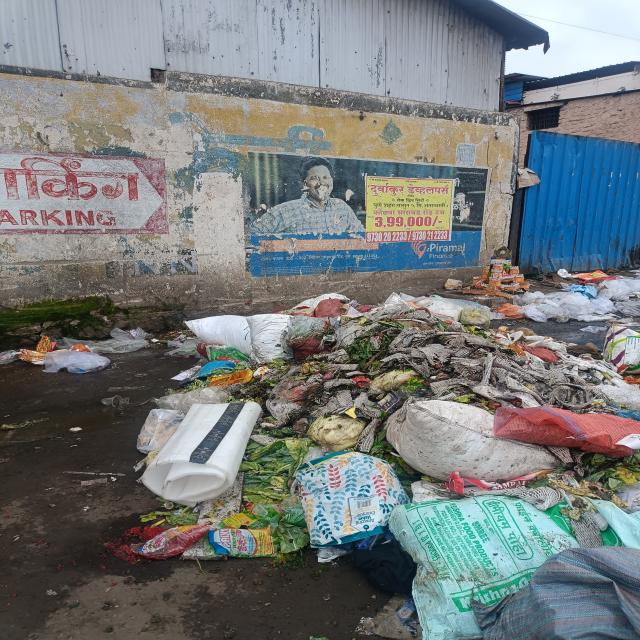garbage: (153, 276, 640, 635)
